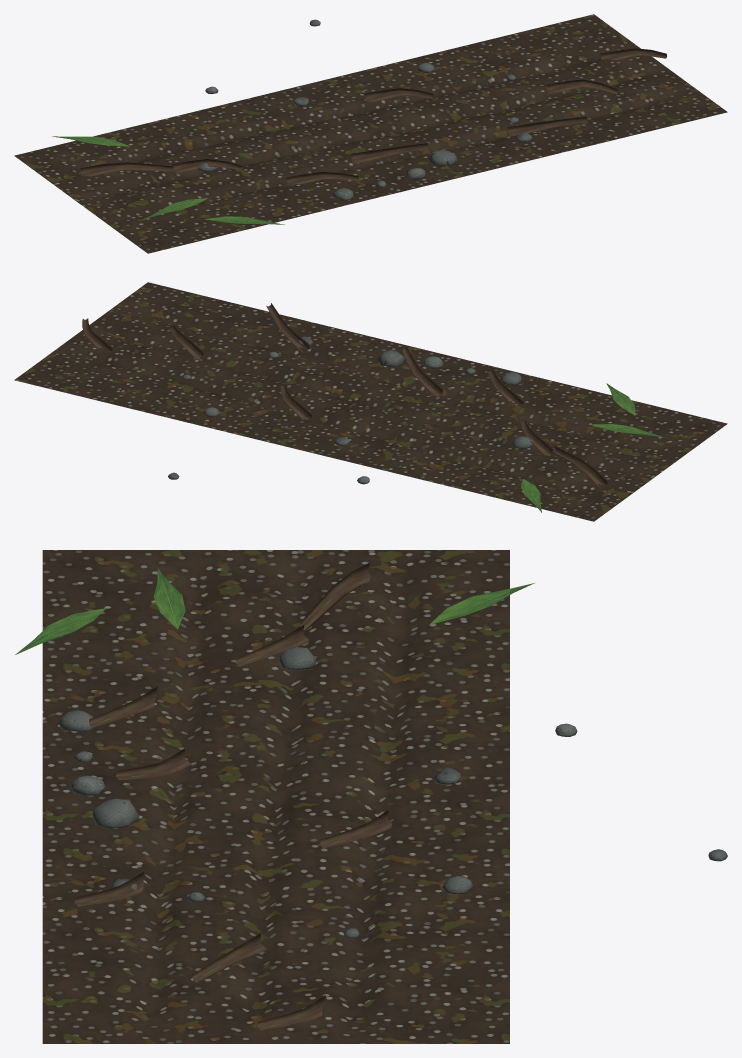
File: foe_trampled_path.glb
3 renders of one model, top to bottom at view 1: azimuth 30°, elevation 25°; view 2: azimuth 150°, elevation 25°; view 3: azimuth 270°, elevation 25°, orthographic. The views are drawn at different scales.
Visible parts, largest first — view 1: foe_trampled_path__soil, foe_trampled_path__root, foe_trampled_path__stone_dark, foe_trampled_path__leaf; view 2: foe_trampled_path__soil, foe_trampled_path__root, foe_trampled_path__stone_dark, foe_trampled_path__leaf; view 3: foe_trampled_path__soil, foe_trampled_path__root, foe_trampled_path__stone_dark, foe_trampled_path__leaf.
Boxes of the visible parts, x1,y1,x2,y2 form: foe_trampled_path__soil: [14, 14, 727, 253]; foe_trampled_path__root: [80, 48, 666, 184]; foe_trampled_path__stone_dark: [198, 19, 532, 200]; foe_trampled_path__leaf: [52, 136, 284, 224]; foe_trampled_path__soil: [14, 282, 727, 521]; foe_trampled_path__root: [82, 303, 607, 487]; foe_trampled_path__stone_dark: [168, 336, 532, 484]; foe_trampled_path__leaf: [521, 383, 665, 512]; foe_trampled_path__soil: [42, 550, 509, 1043]; foe_trampled_path__root: [74, 563, 395, 1030]; foe_trampled_path__stone_dark: [59, 647, 727, 938]; foe_trampled_path__leaf: [15, 568, 534, 654].
Bounding box in the file's own units: 4.02 × 0.1855 × 2.44.
Materials: 4 (4 with a texture image).
